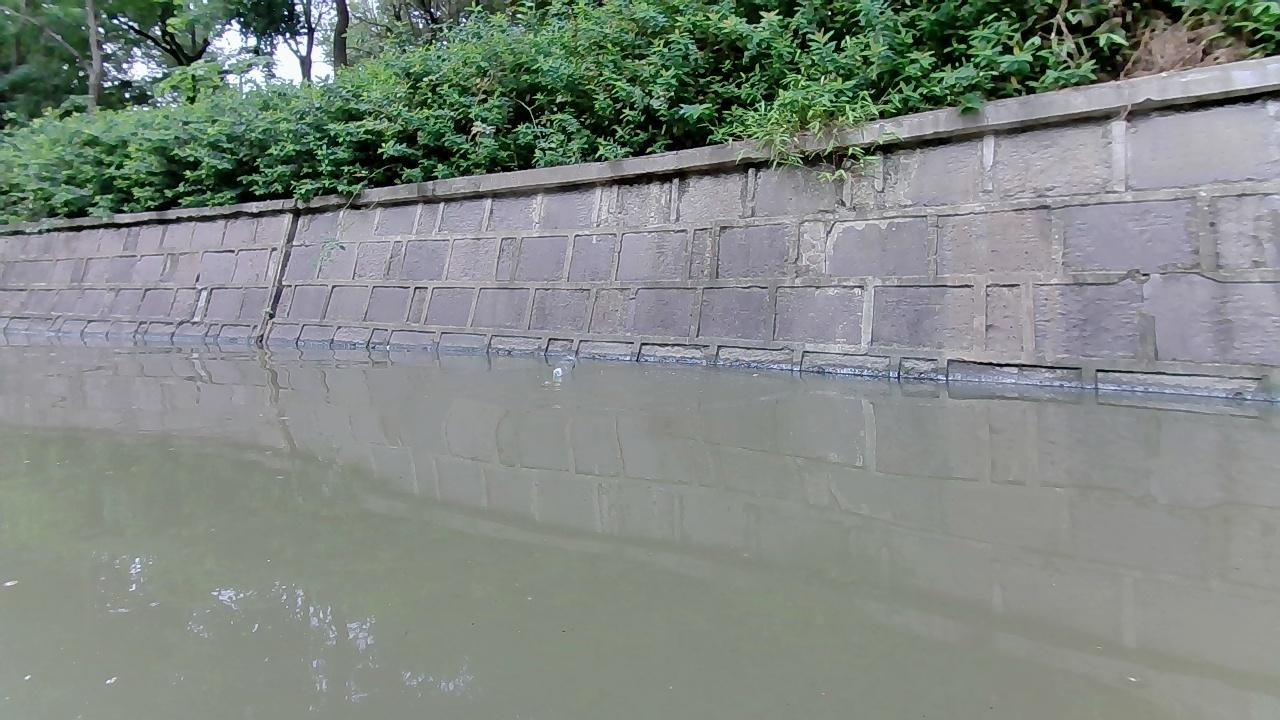bottle: (551, 354, 577, 376)
